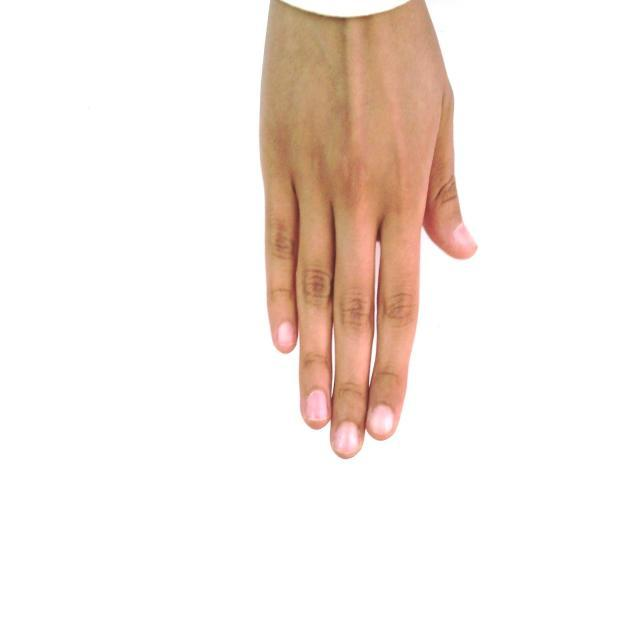Fingernail: (335, 422, 360, 454), (307, 390, 328, 421), (371, 405, 393, 434), (455, 226, 476, 246), (277, 322, 293, 346)
